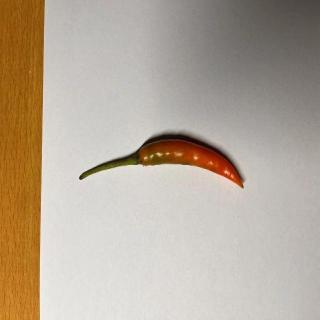Cabai Merah: (78, 138, 246, 191)
